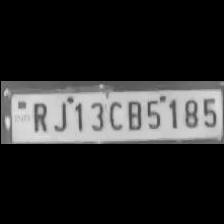1: (68, 98, 86, 132), (163, 96, 179, 128)
3: (86, 97, 104, 130)
5: (144, 96, 162, 130), (200, 93, 218, 126)
8: (180, 94, 198, 128)
B: (122, 96, 142, 130)
C: (104, 96, 124, 130)
J: (49, 96, 69, 132)
R: (26, 98, 48, 132)
